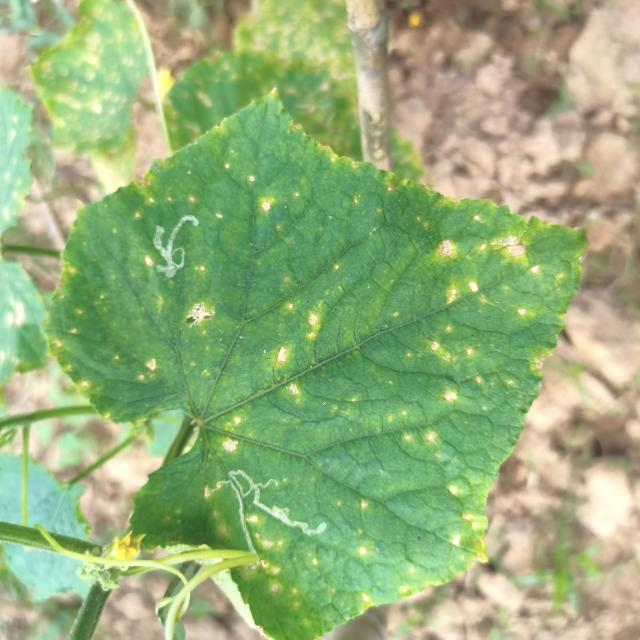disease_cucumber: (382, 206, 565, 556), (186, 495, 444, 632), (174, 284, 354, 461), (46, 258, 184, 414), (125, 163, 310, 273)
